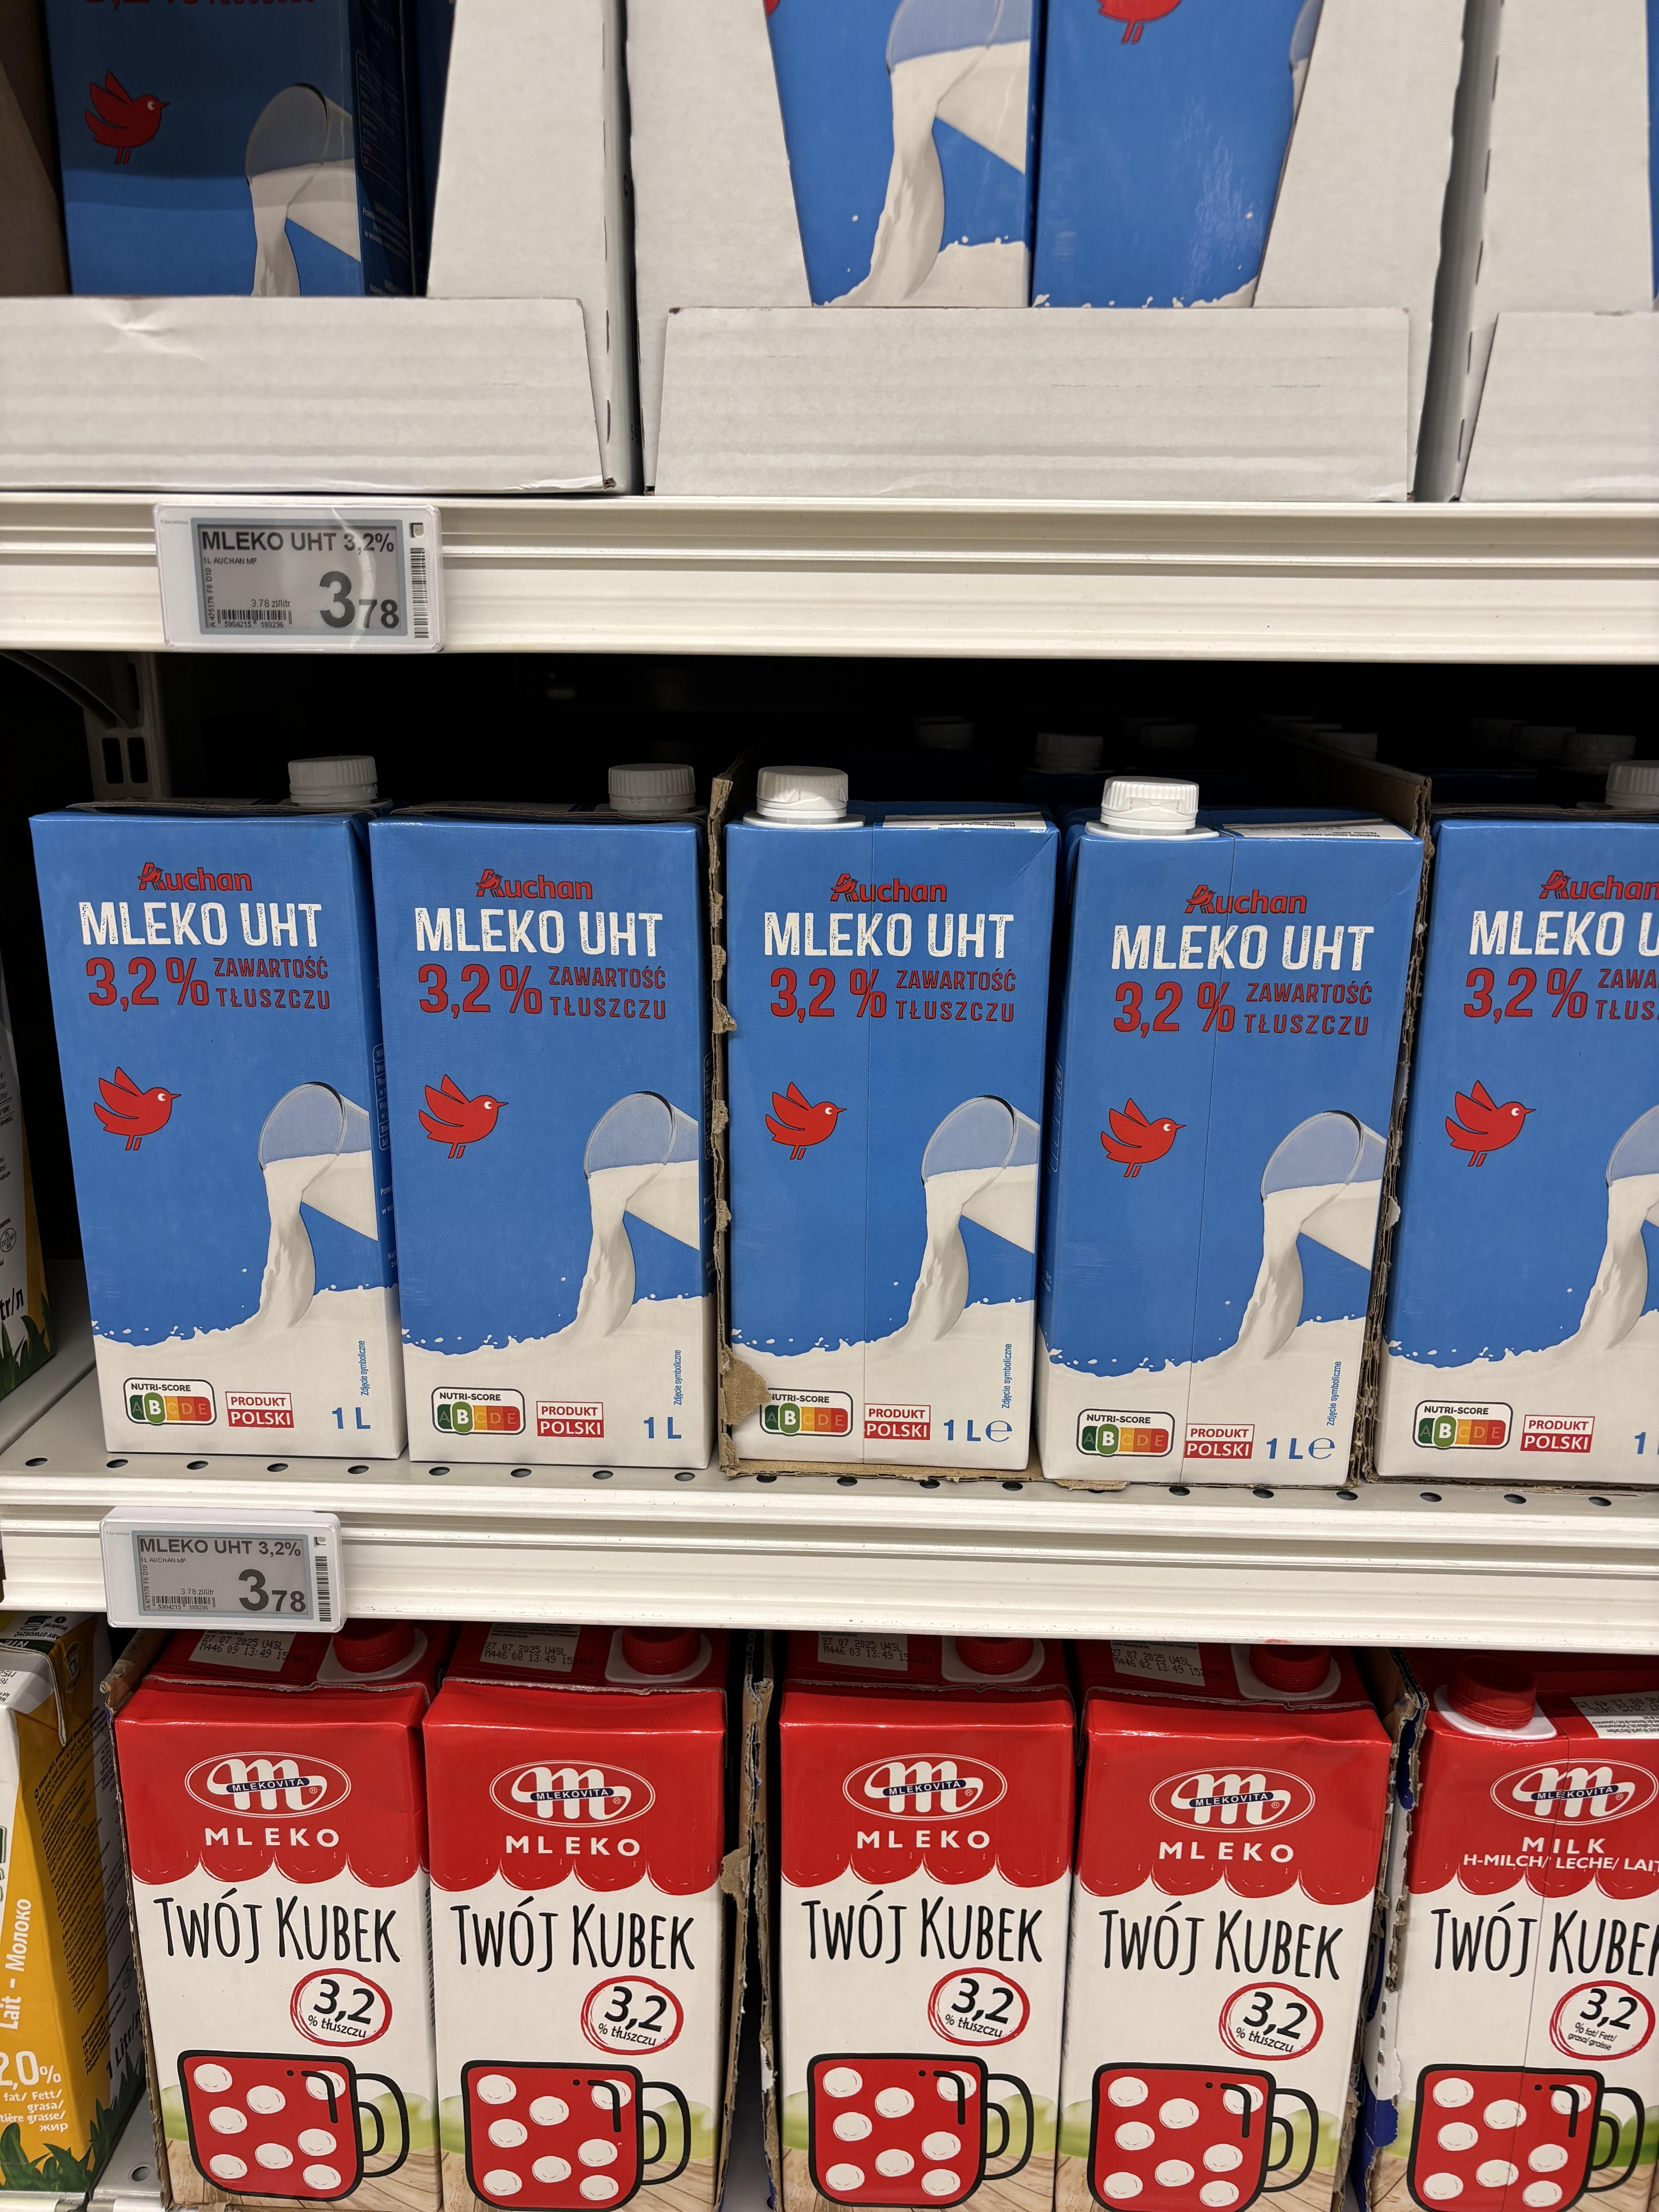Milk: (17, 787, 394, 1508), (361, 801, 728, 1521), (734, 780, 1049, 1552), (1080, 791, 1368, 1500), (118, 1702, 422, 2195), (1080, 1700, 1371, 2212), (439, 1674, 734, 2167), (758, 1688, 1053, 2179), (1405, 1695, 1659, 2168)
